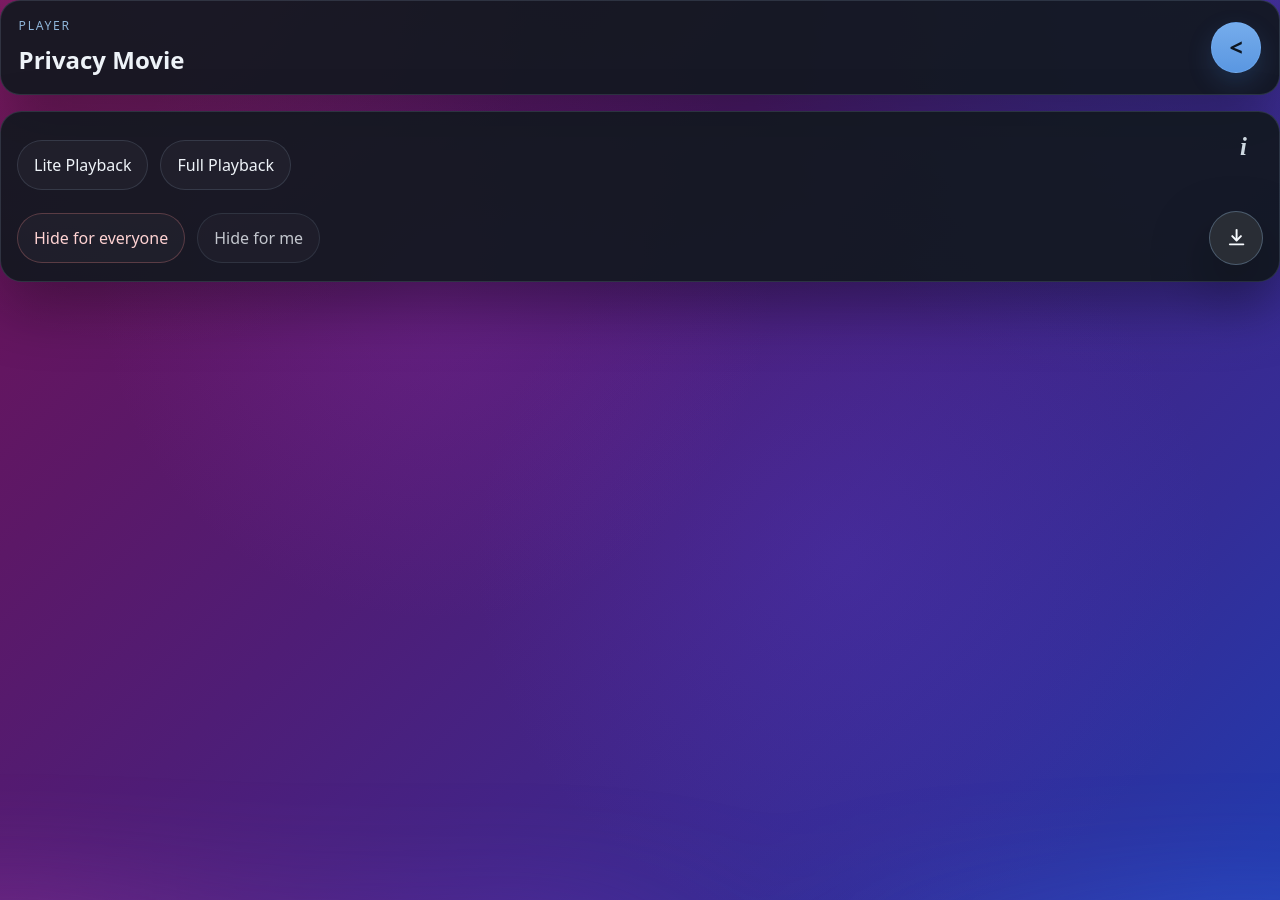
Test: DetailPage source metadata privacy › admins still see source file metadata in the info modal
(page scrolled)
Click the button named "Movie info".
click(1243, 147)  # box [1221,125,1265,169]
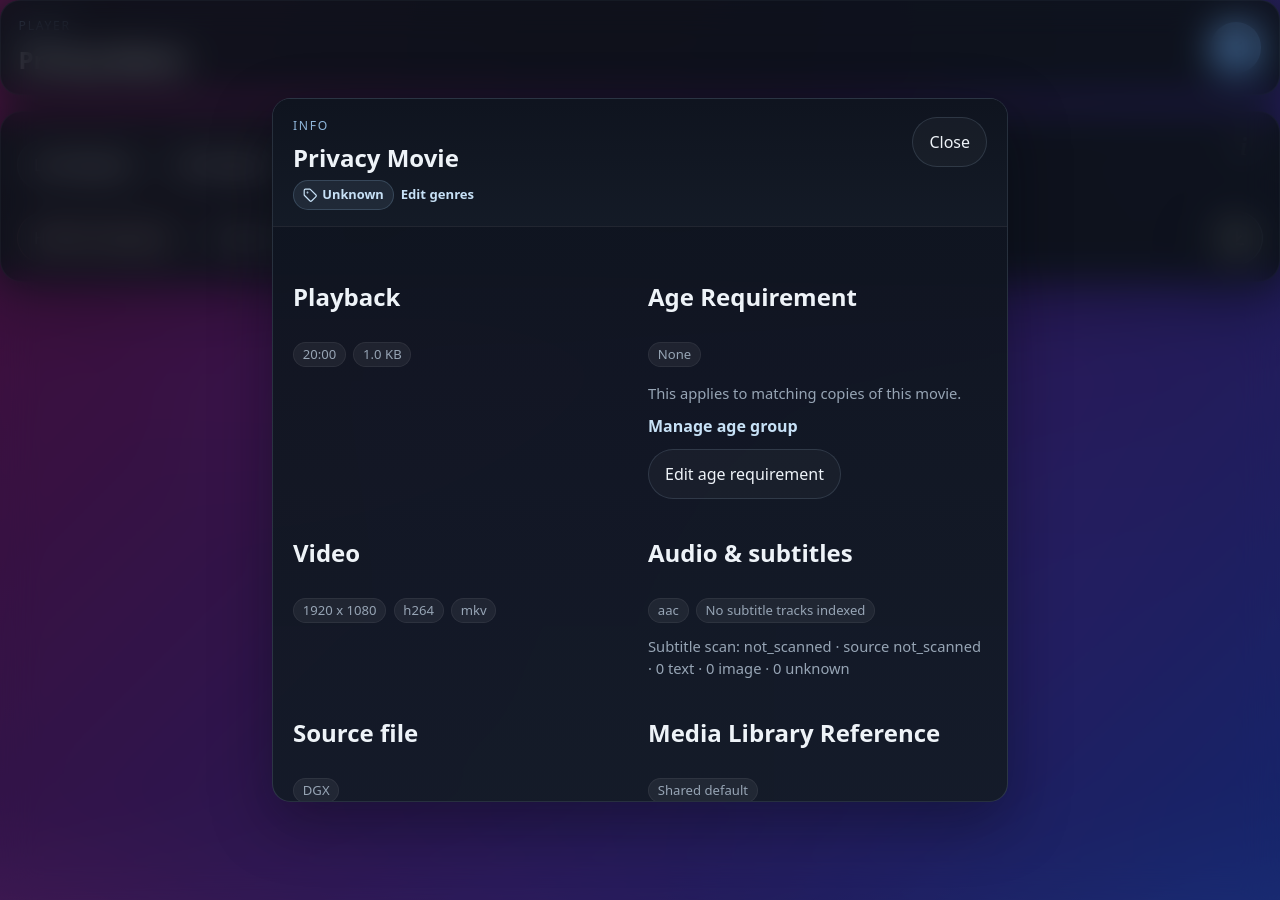
Expected: the dialog "Privacy Movie" is shown
Expected: the heading "Source file" is shown, [293,716,418,749]
